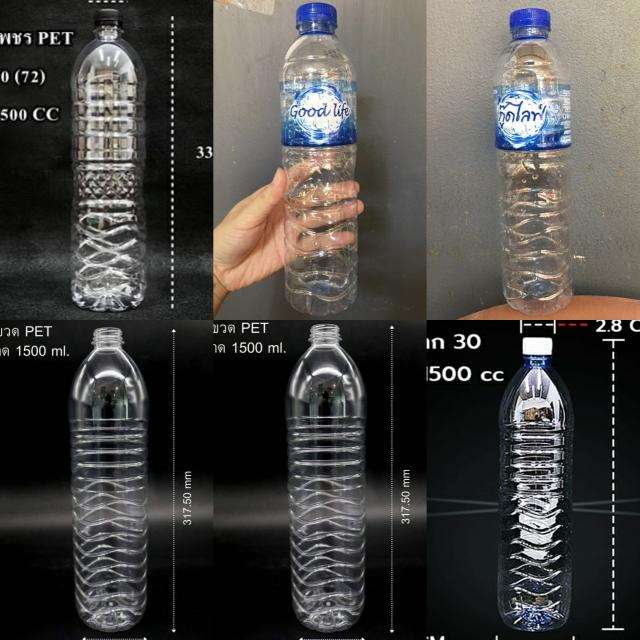plastik: (285, 324, 366, 632), (280, 3, 358, 316), (69, 328, 149, 632), (494, 9, 572, 314), (71, 9, 146, 311), (498, 338, 574, 631)
